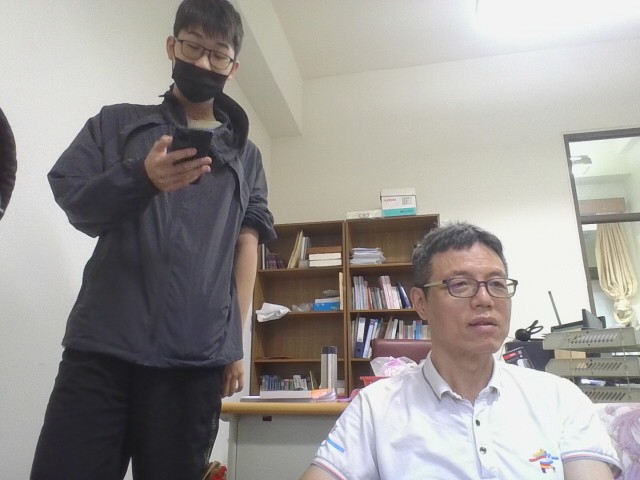No_Gloves: (141, 132, 213, 193), (220, 357, 247, 398)
No_Helmet: (407, 219, 520, 386), (163, 0, 245, 106)
person: (20, 1, 283, 478), (270, 203, 636, 480)
